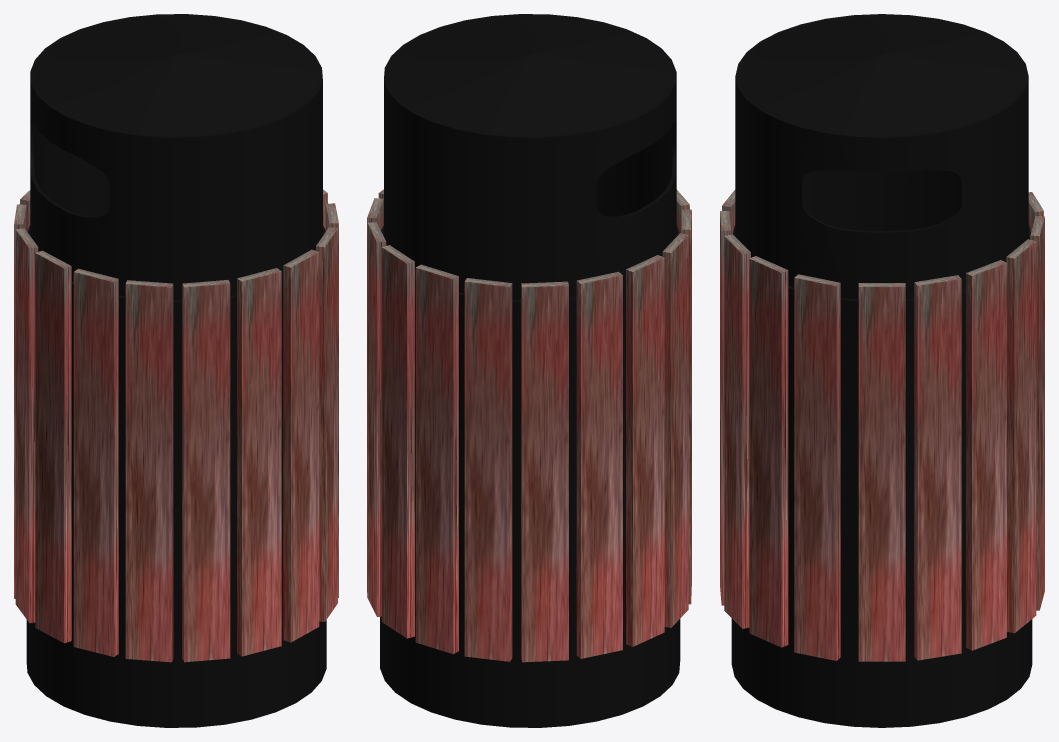
Rendered from Tacho.fbx.
The picture shows the model from 3 angles, left to right: view 1: azimuth 30°, elevation 25°; view 2: azimuth 150°, elevation 25°; view 3: azimuth 270°, elevation 25°; orthographic projection.
Visible parts, largest first — view 1: Tacho; view 2: Tacho; view 3: Tacho.
Boxes of the visible parts, box(x1,y1,x2,y2) form: Tacho: box(14, 14, 338, 727); Tacho: box(367, 14, 691, 727); Tacho: box(720, 14, 1044, 727).
Bounding box in the file's own units: 86.3 × 179 × 86.46.
2 materials, 1 textured.
